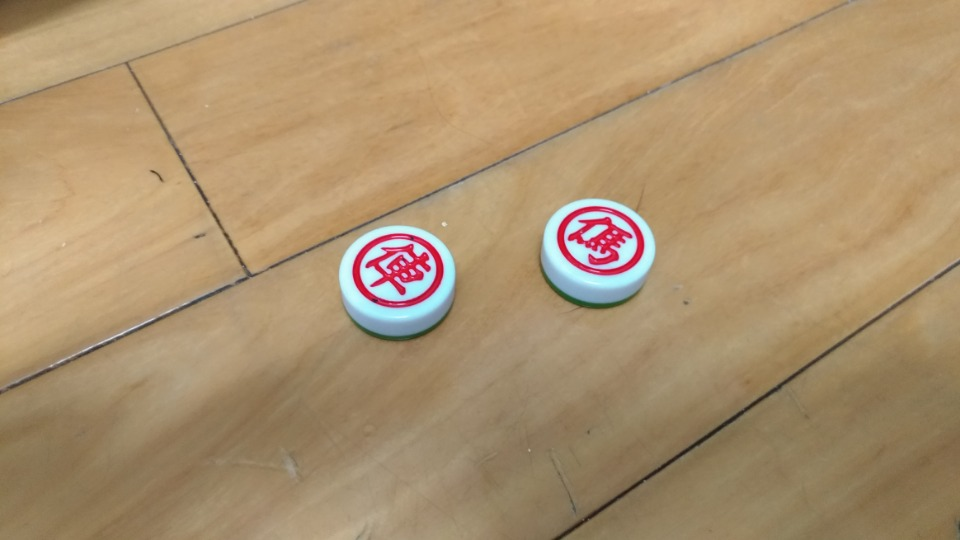r-knight: (528, 191, 665, 313)
r-rook: (327, 213, 463, 350)
